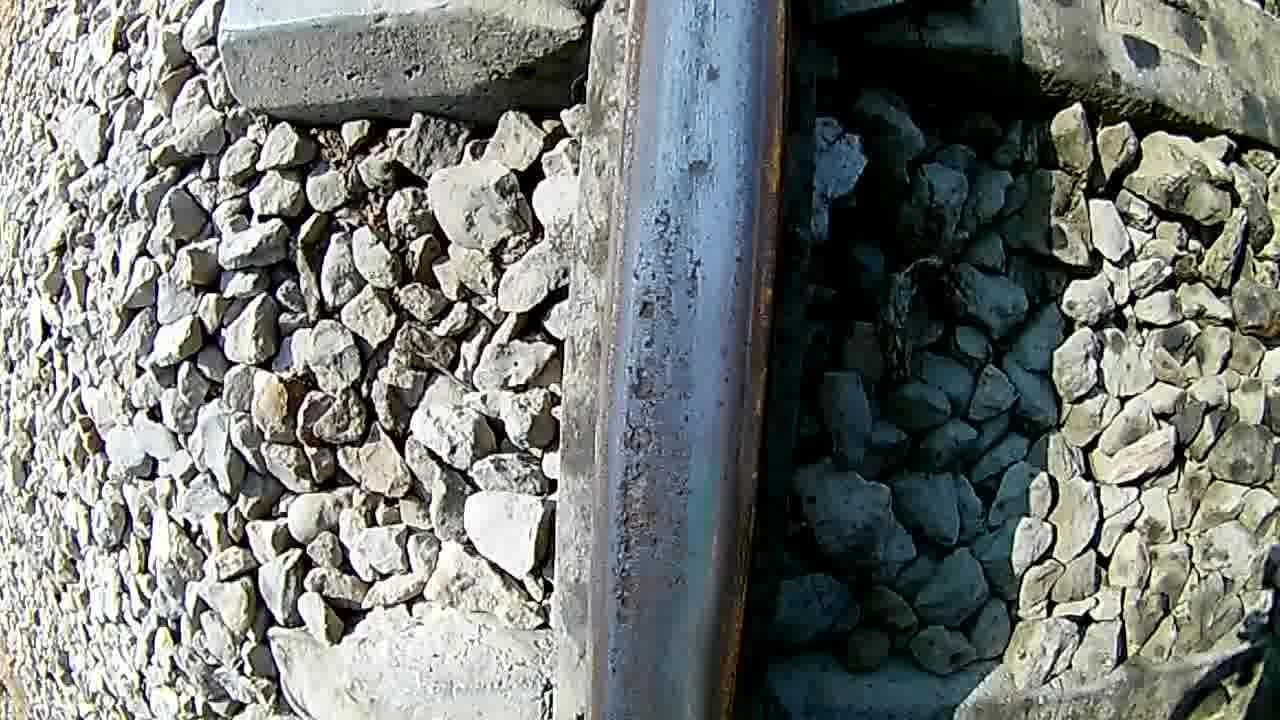crack: (619, 3, 759, 698)
